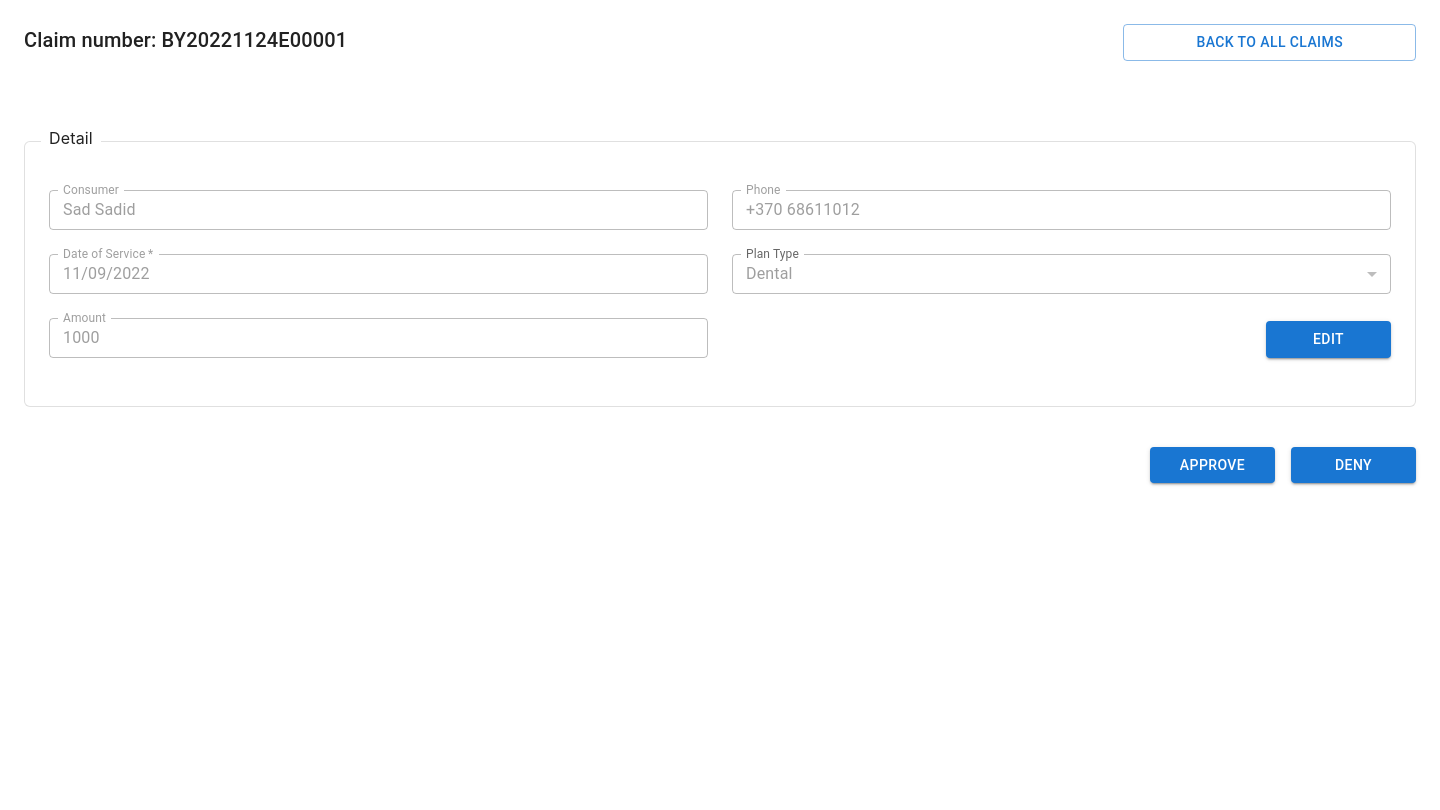
Test: Claim › after approving claim and clicking "Continue" user should be redirected to "Claims" page
This screenshot has width=1440, height=810.
Click the button "Approve". click: (1212, 465)
box: [1150,446,1275,483]
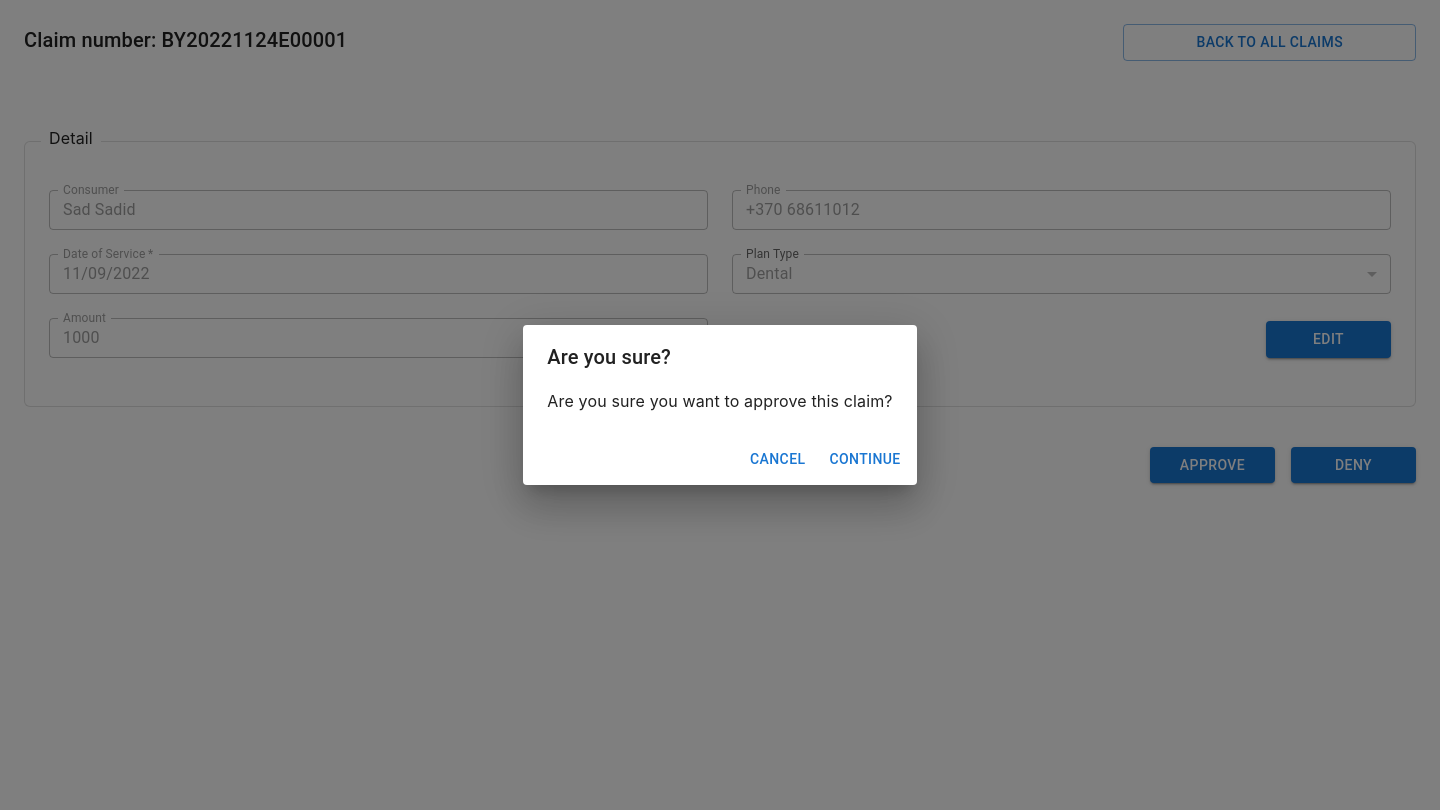
Click the button with test id "submit-popup". click: (865, 459)
box: [822,441,909,477]
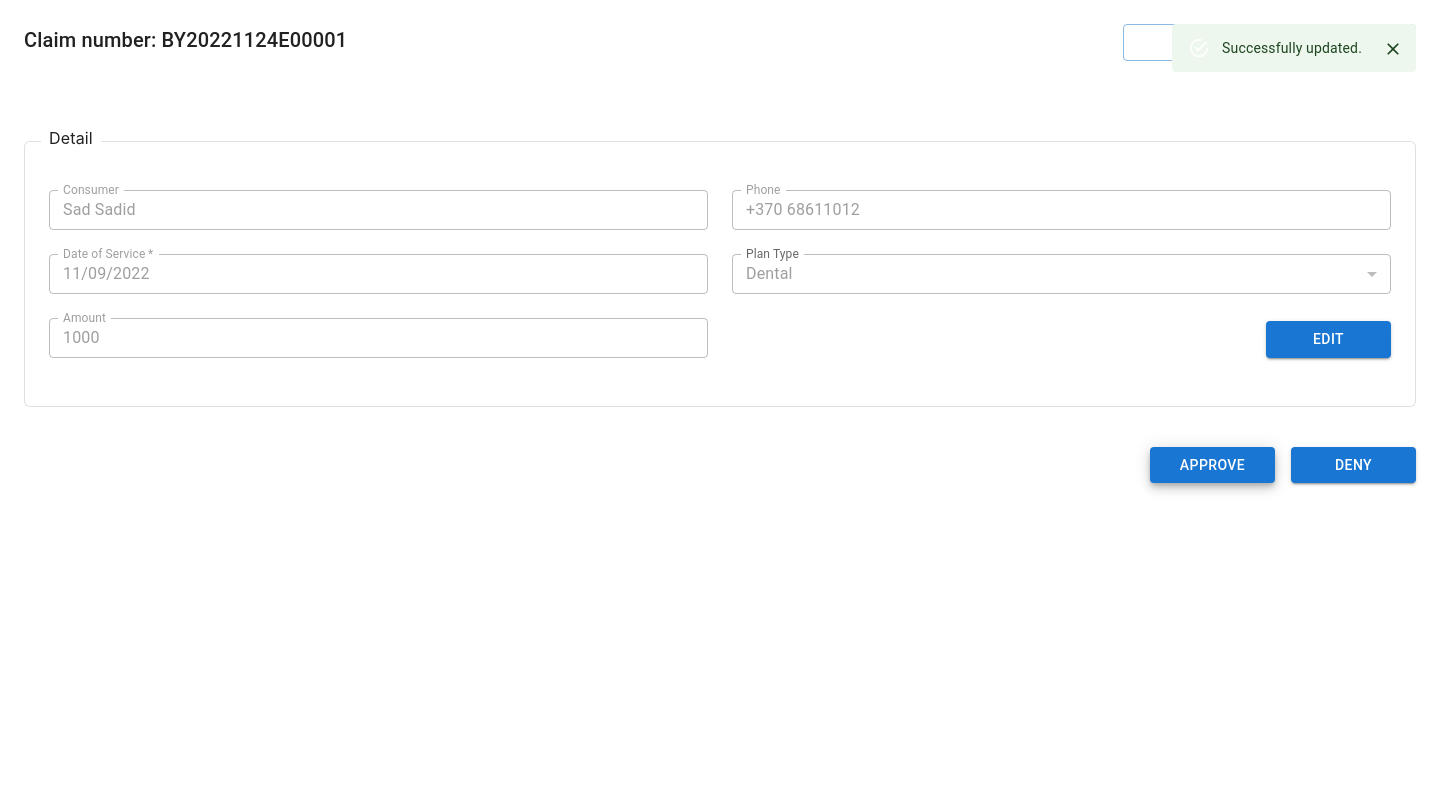
Expected: the message "Successfully updated." is shown, [1172,24,1416,72]
Expected: the text "Successfully updated." is shown, [1222,40,1362,56]
Expected: the button named "Close" is shown
Click the button named "Close". click: (1393, 49)
box: [1378,34,1408,64]
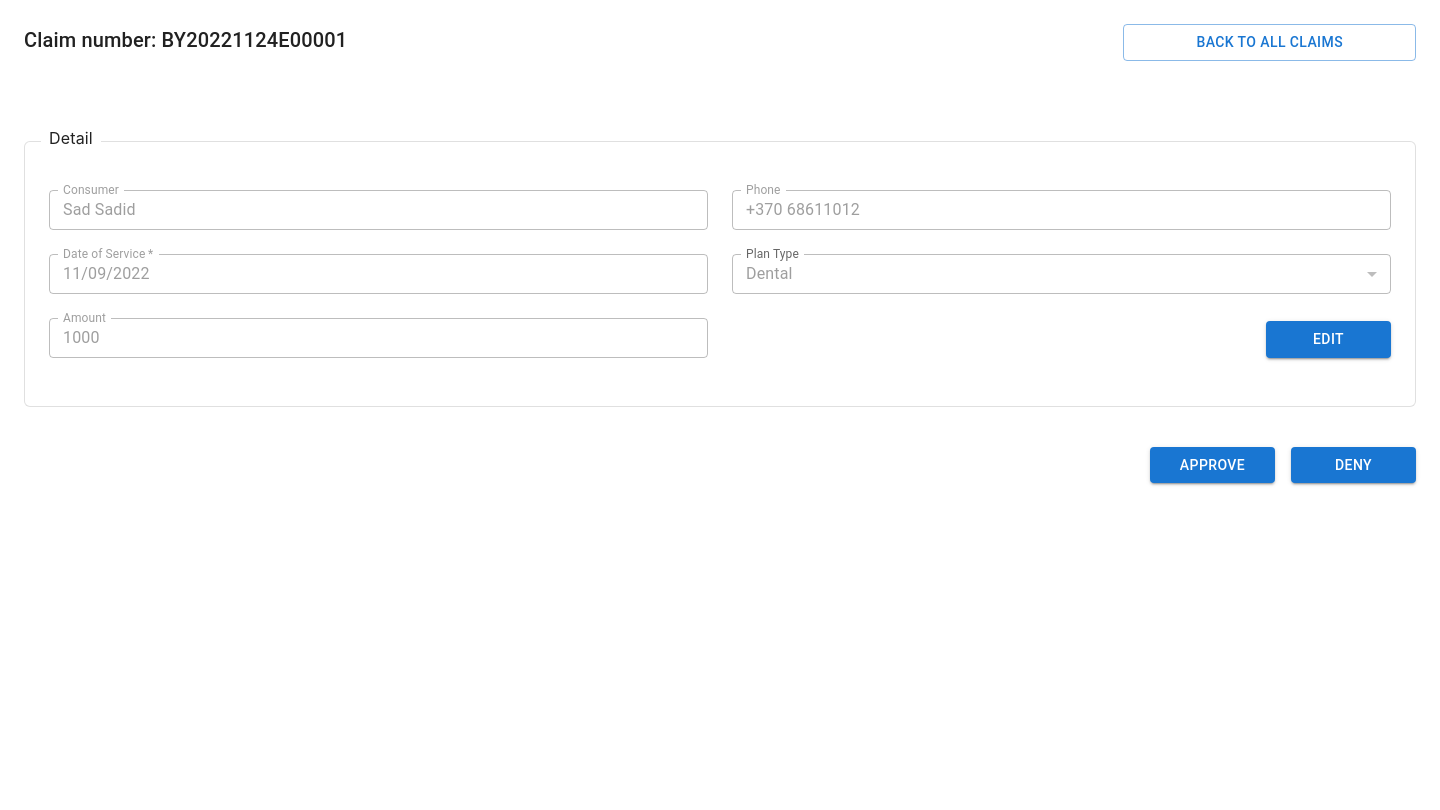
Expected: the message "Successfully updated." is gone
